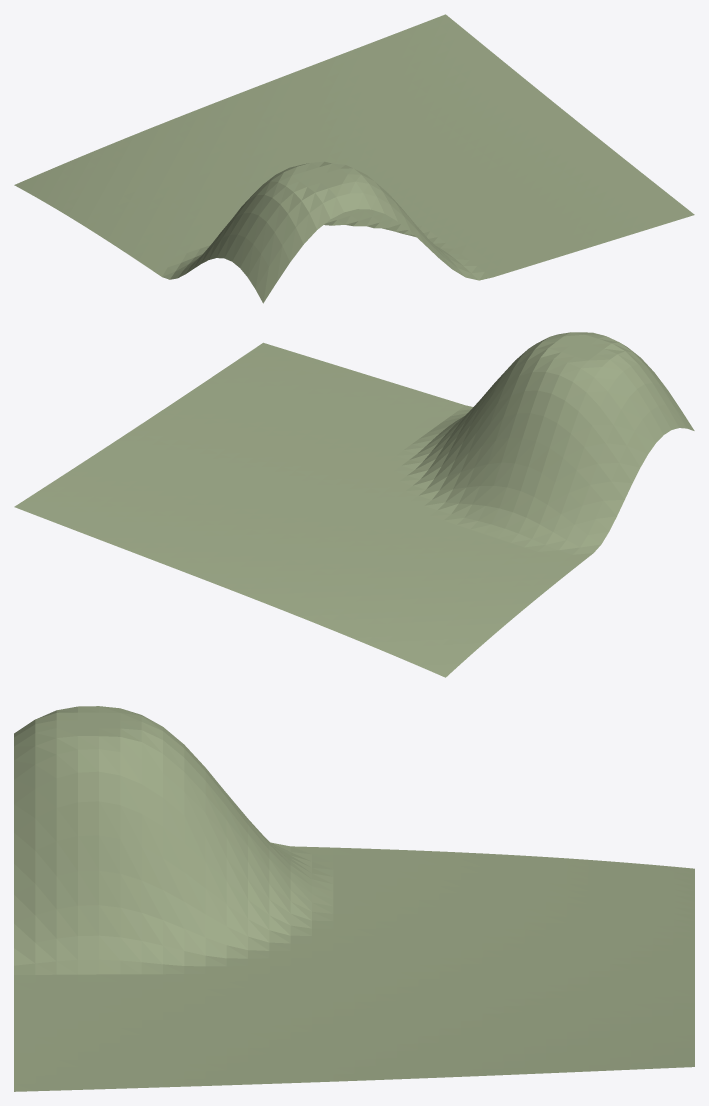
Rendered from expanse-15-19.glb.
The picture shows the model from 3 angles, top to bottom: view 1: azimuth 30°, elevation 25°; view 2: azimuth 150°, elevation 25°; view 3: azimuth 270°, elevation 25°; orthographic projection. The views are drawn at different scales.
Visible parts, largest first — view 1: expanse-15-19; view 2: expanse-15-19; view 3: expanse-15-19.
Boxes of the visible parts, bbox=[...] form: expanse-15-19: bbox=[14, 14, 694, 303]; expanse-15-19: bbox=[14, 332, 694, 677]; expanse-15-19: bbox=[14, 706, 694, 1091].
Bounding box in the file's own units: 256 × 84.84 × 256.
